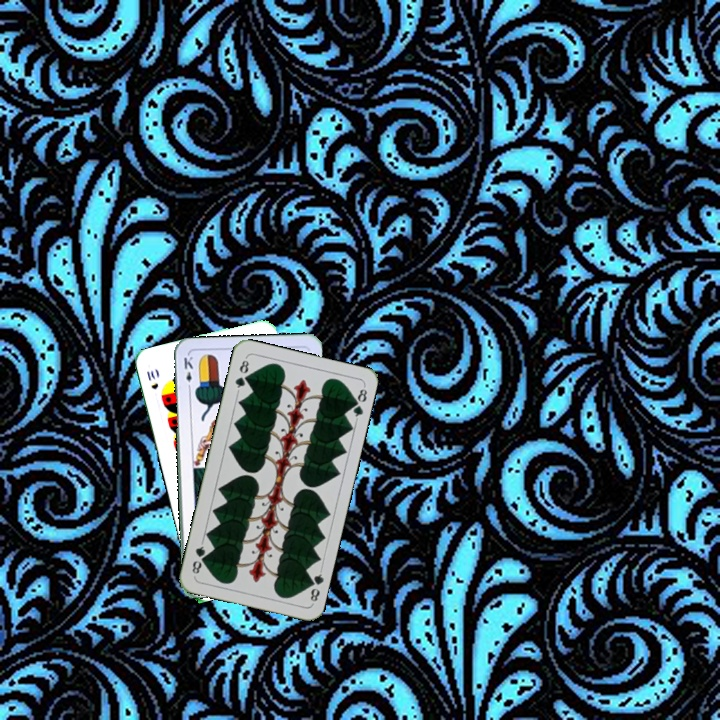EK: (180, 352, 196, 393)
G8: (304, 566, 326, 604), (231, 354, 251, 394)
S10: (143, 366, 161, 392)
